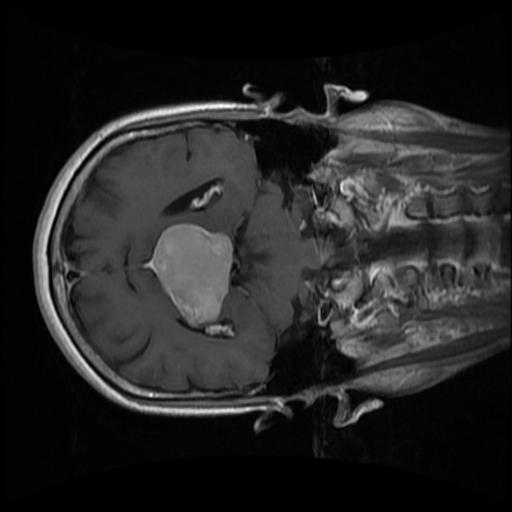meningioma: (151, 223, 232, 327)
